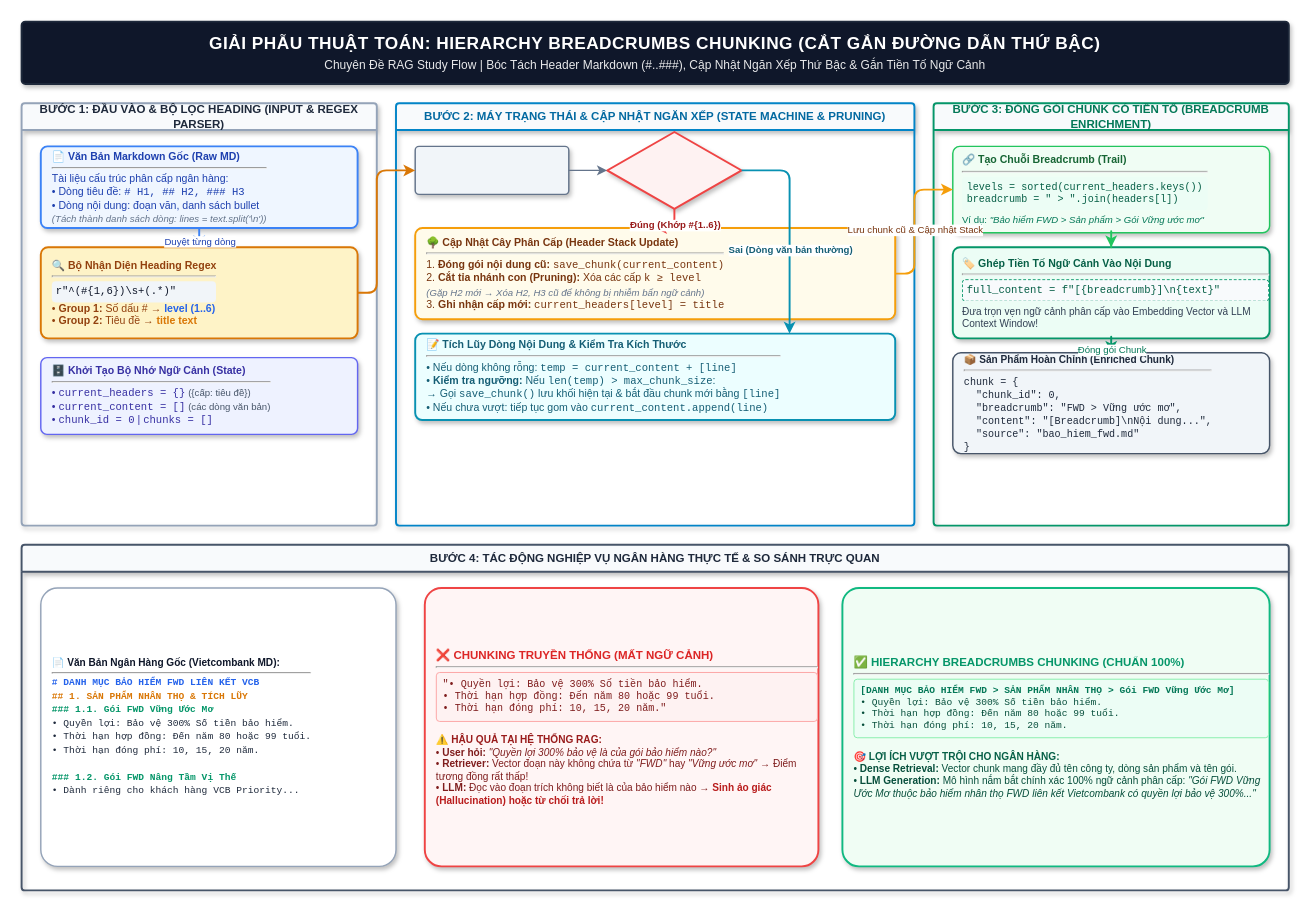
This 1311x914 diagram has some shape labels left out. Here are the shapes that lost their labels. From the top down, the centre of each, then its label:
pixel 492 171: Duyệt Từng Dòng for line in lines
pixel 675 171: Có Phải Heading? (header_match)
